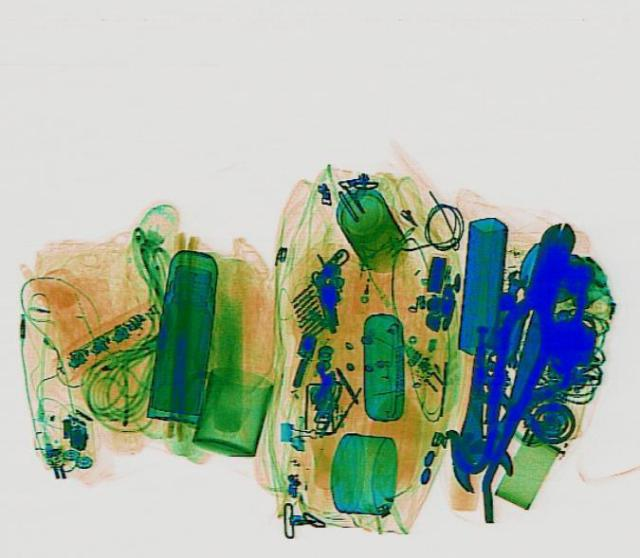Pliers: (442, 318, 566, 497), (523, 219, 577, 295)
